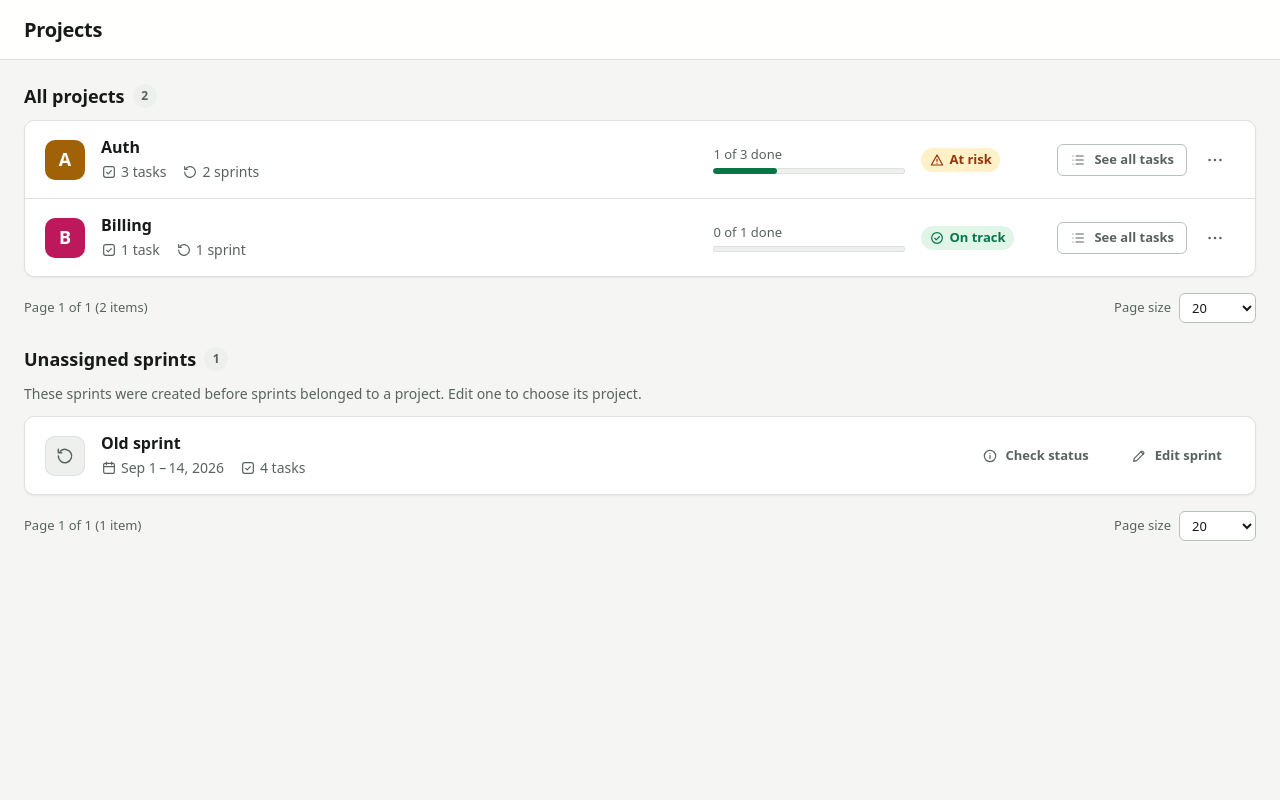
Test: Projects page › lists unassigned sprints and assigns one to a project
Expected: the list item "Old sprint Sep 1 – 14, 2026 4 tasks Check status Edit sprint" is shown, [45, 432, 1235, 477]
Expected: the navigation bar named "Unassigned sprints pages" is shown, [24, 507, 1256, 541]
Click the button "Edit sprint" at (1176, 456), box [1118, 440, 1235, 472]
(page scrolled)
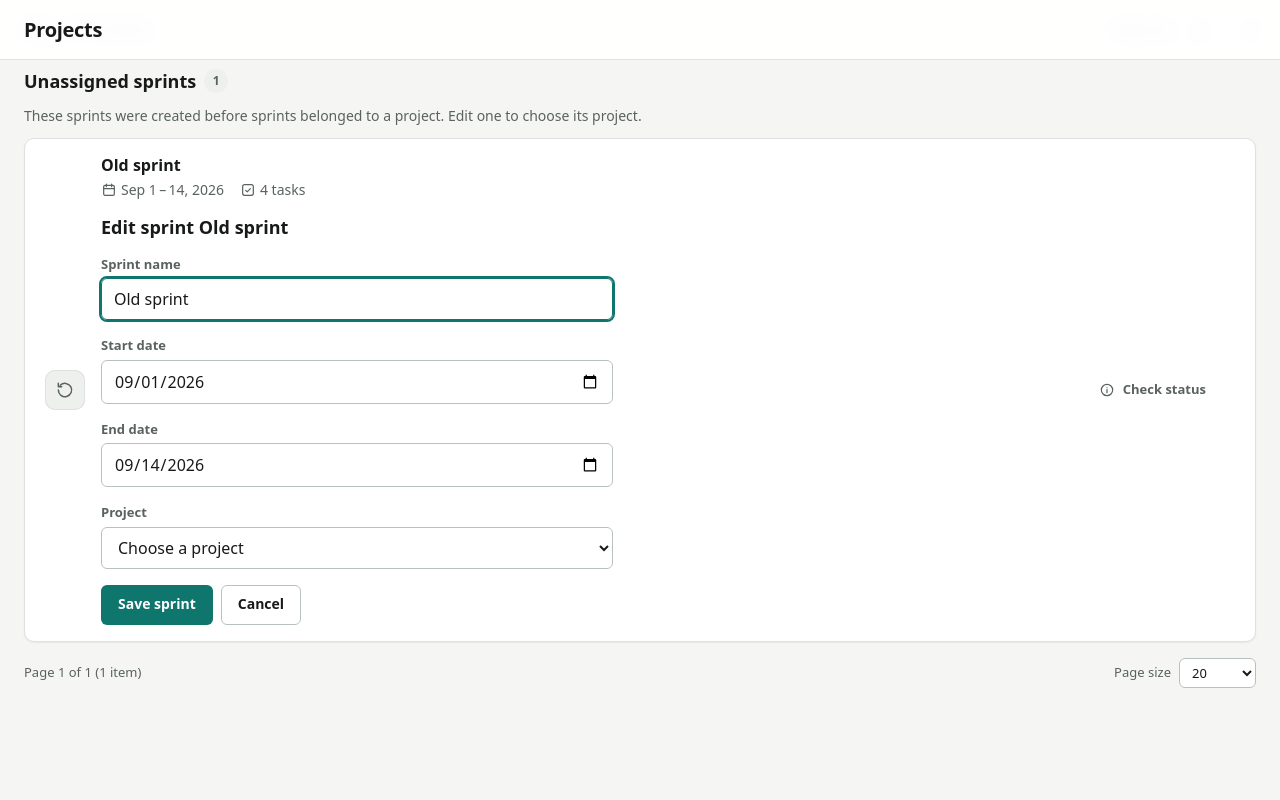
Select "Billing" in the dropdown labelled "Project" at (357, 548), box [101, 526, 613, 568]
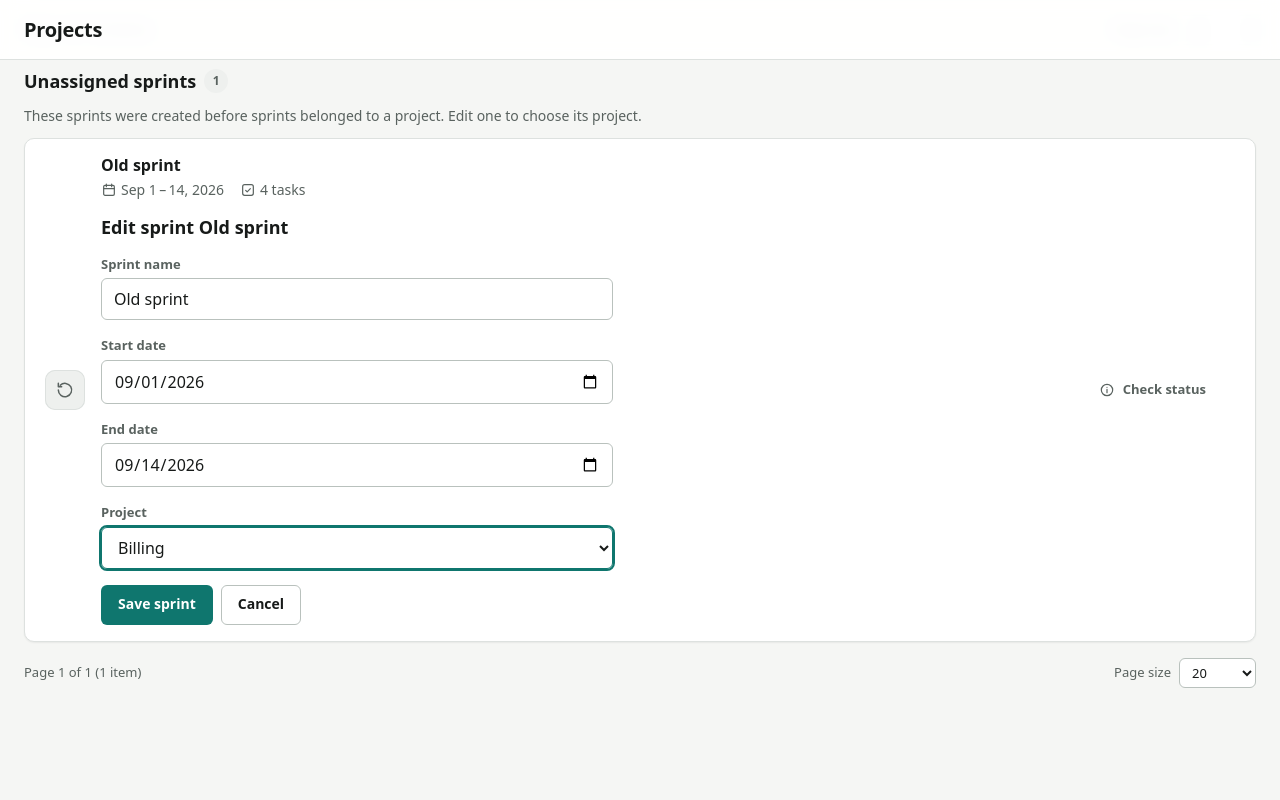
Click the button "Save sprint" at (157, 604), box [101, 584, 213, 624]
(page scrolled)
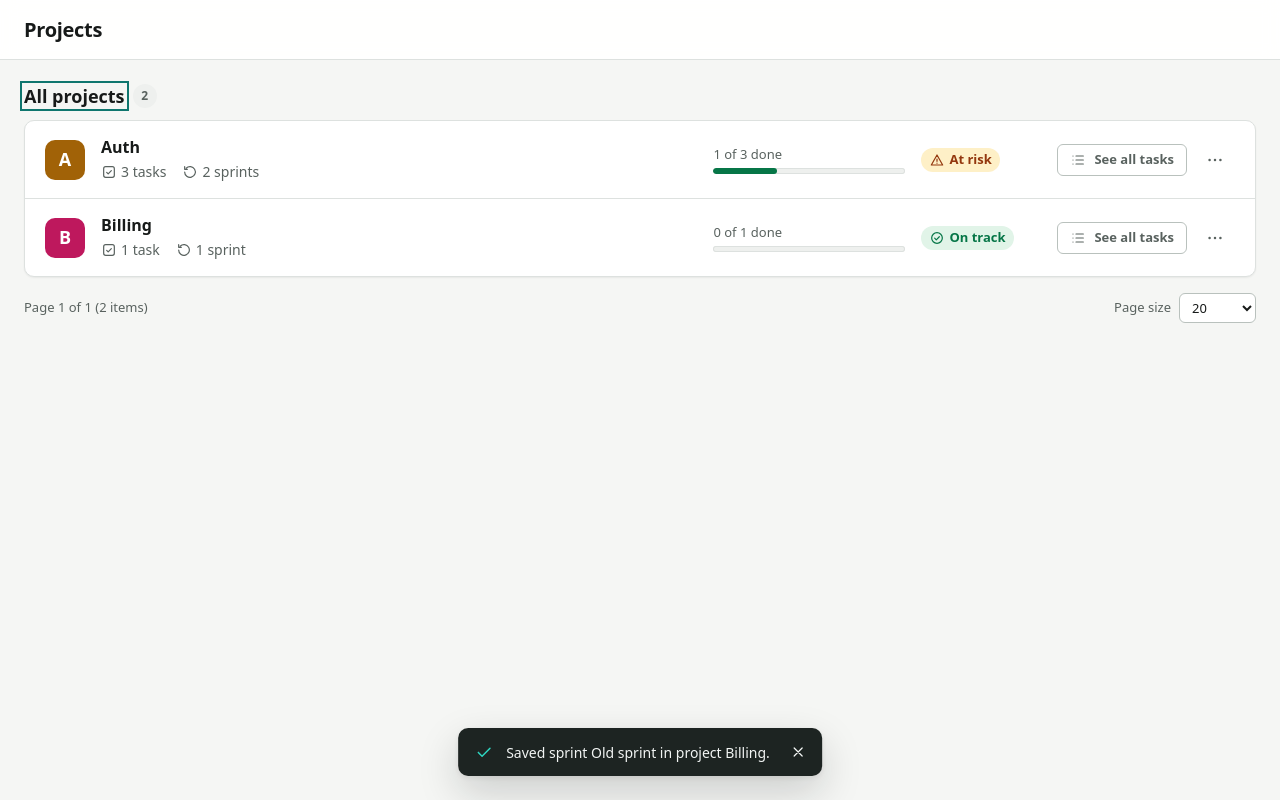
Now the heading "Unassigned sprints" is gone
